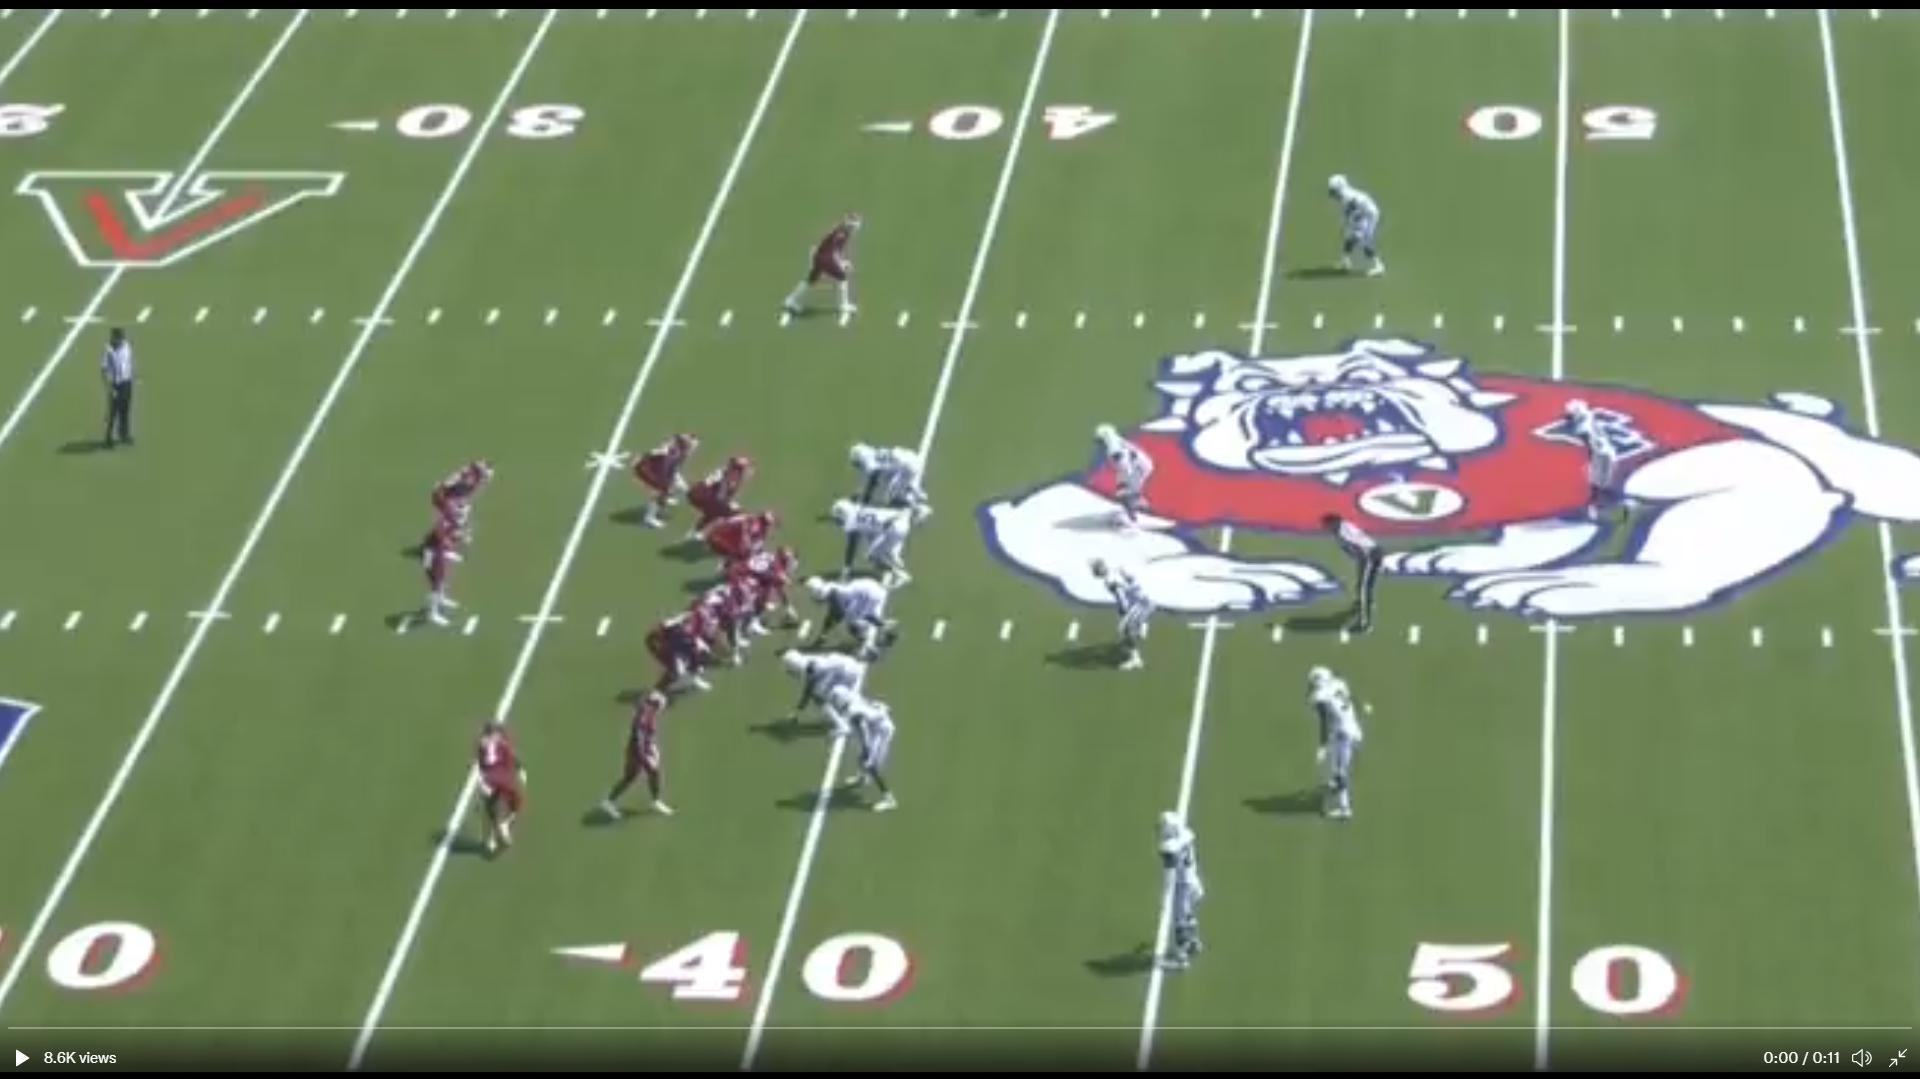player: (778, 208, 874, 335), (598, 683, 682, 826), (1300, 663, 1369, 830), (820, 676, 902, 816), (1570, 398, 1650, 538), (1150, 808, 1216, 977), (787, 647, 896, 732), (476, 711, 535, 863), (1086, 420, 1162, 537), (808, 576, 902, 669), (829, 497, 920, 590), (427, 452, 496, 572), (645, 603, 725, 705), (411, 498, 471, 630), (847, 439, 937, 522), (730, 546, 810, 639), (1327, 171, 1393, 281), (632, 429, 700, 533), (686, 577, 756, 670), (1106, 563, 1158, 681), (687, 451, 761, 531), (707, 509, 781, 583)
ref: (1322, 508, 1382, 639), (94, 323, 149, 463)
